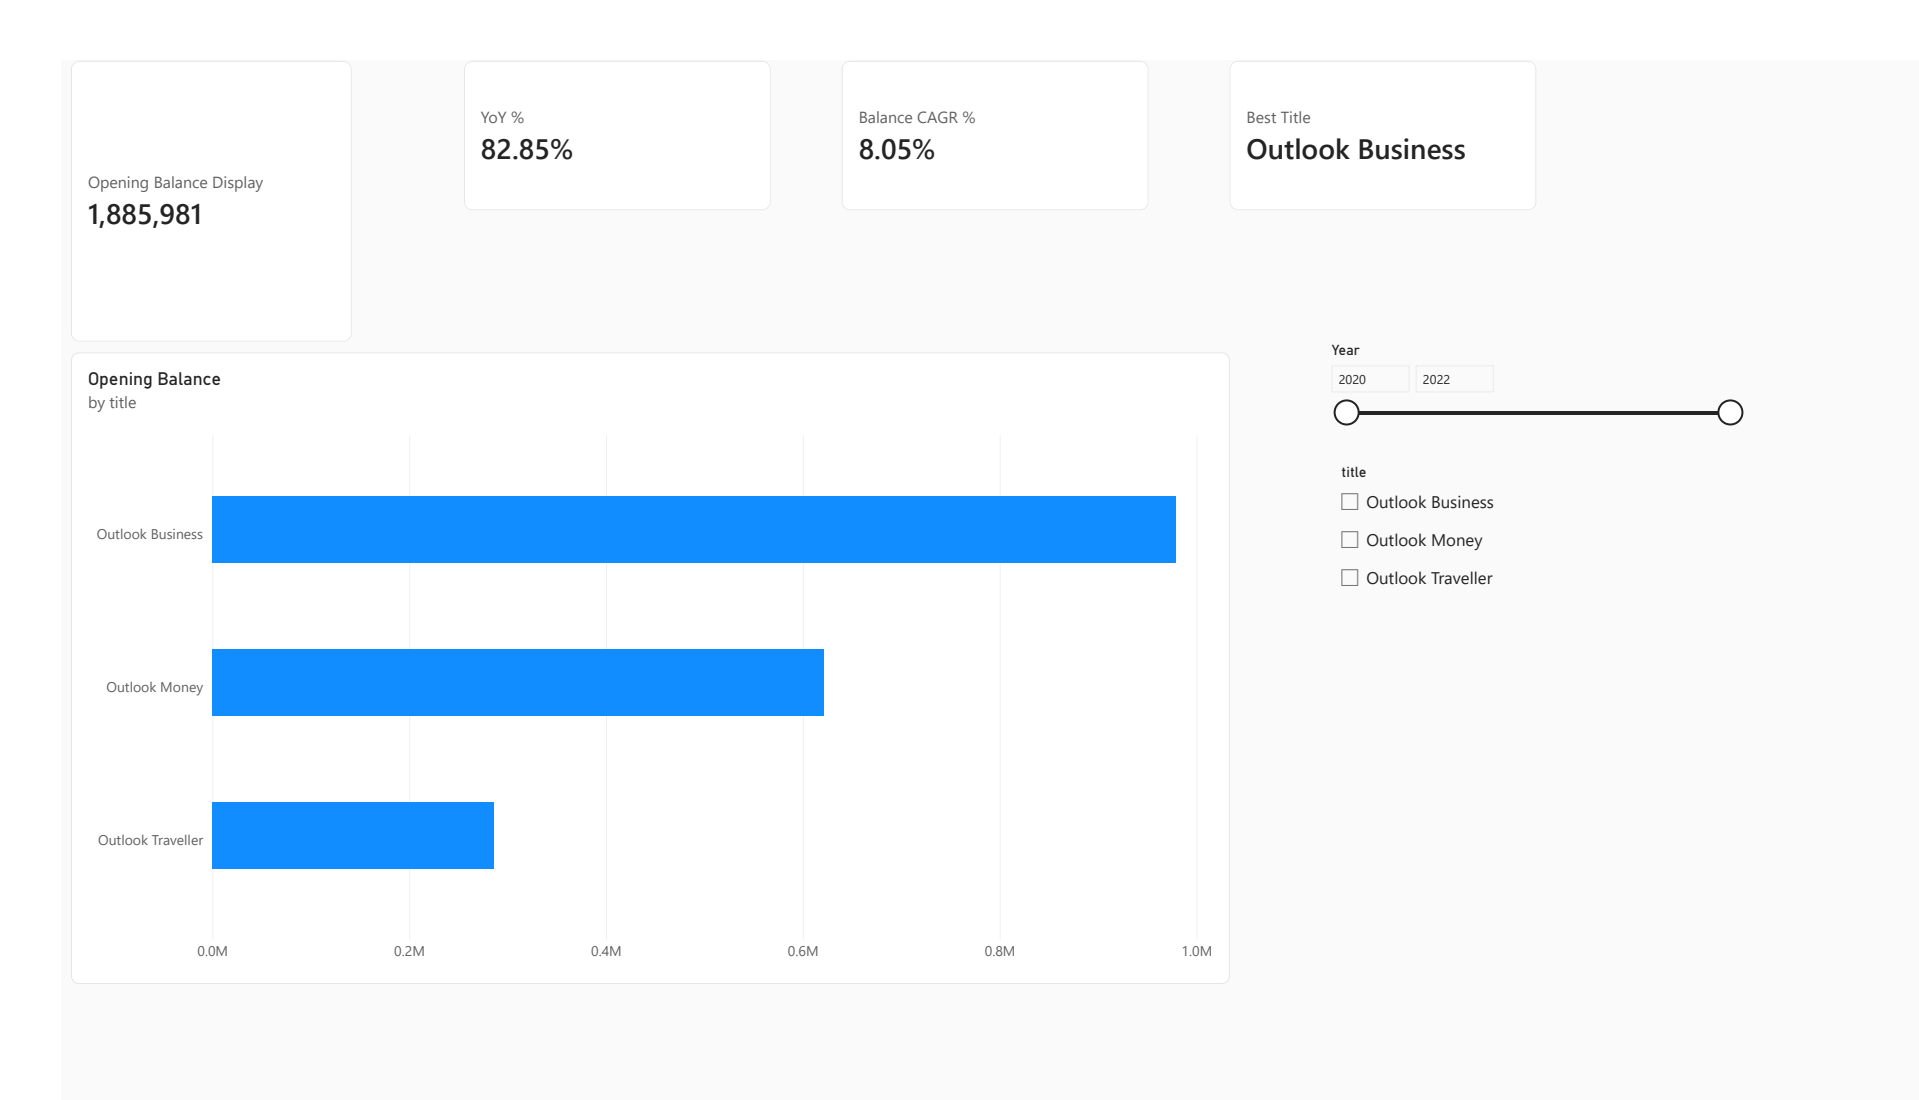

The page's visual inventory and layout, read from the dashboard file:
{"tool":"powerbi","page":{"name":"Executive overview","canvas":[1920,1080],"ordinal":1},"visuals":[{"type":"cardVisual","fields":{"Data":["power_bi_monthly.Opening Balance Display"]},"box":[10,0,280,280],"z":0},{"type":"clusteredBarChart","fields":{"Category":["power_bi_monthly.title"],"Y":["power_bi_monthly.Opening Balance"]},"box":[10.1,290.8,1155.8,629.7],"z":1},{"type":"cardVisual","fields":{"Data":["power_bi_monthly.YoY %"]},"box":[402.1,0,306,149.2],"z":2},{"type":"cardVisual","fields":{"Data":["power_bi_monthly.Balance CAGR %"]},"box":[778.9,0,306,149.2],"z":3},{"type":"cardVisual","fields":{"Data":["power_bi_monthly.Best Title"]},"box":[1165.9,0,306,149.2],"z":4},{"type":"slicer","fields":{"Values":["Date.Year"]},"box":[1259.5,280.7,422.3,149.2],"z":5},{"type":"slicer","fields":{"Values":["power_bi_monthly.title"]},"box":[1269.6,402.1,422.3,354.1],"z":6}]}

Visuals, with their boxes in screenshot pixels (x1, y1, x2, y2), scaled from the page's 1920x1080 canvas onto the 1919x1100 screenshot:
cardVisual - power_bi_monthly.Opening Balance Display: box(10, 0, 290, 285)
clusteredBarChart - power_bi_monthly.title x power_bi_monthly.Opening Balance: box(10, 296, 1165, 938)
cardVisual - power_bi_monthly.YoY %: box(402, 0, 708, 152)
cardVisual - power_bi_monthly.Balance CAGR %: box(778, 0, 1084, 152)
cardVisual - power_bi_monthly.Best Title: box(1165, 0, 1471, 152)
slicer - Date.Year: box(1259, 286, 1681, 438)
slicer - power_bi_monthly.title: box(1269, 410, 1691, 770)
